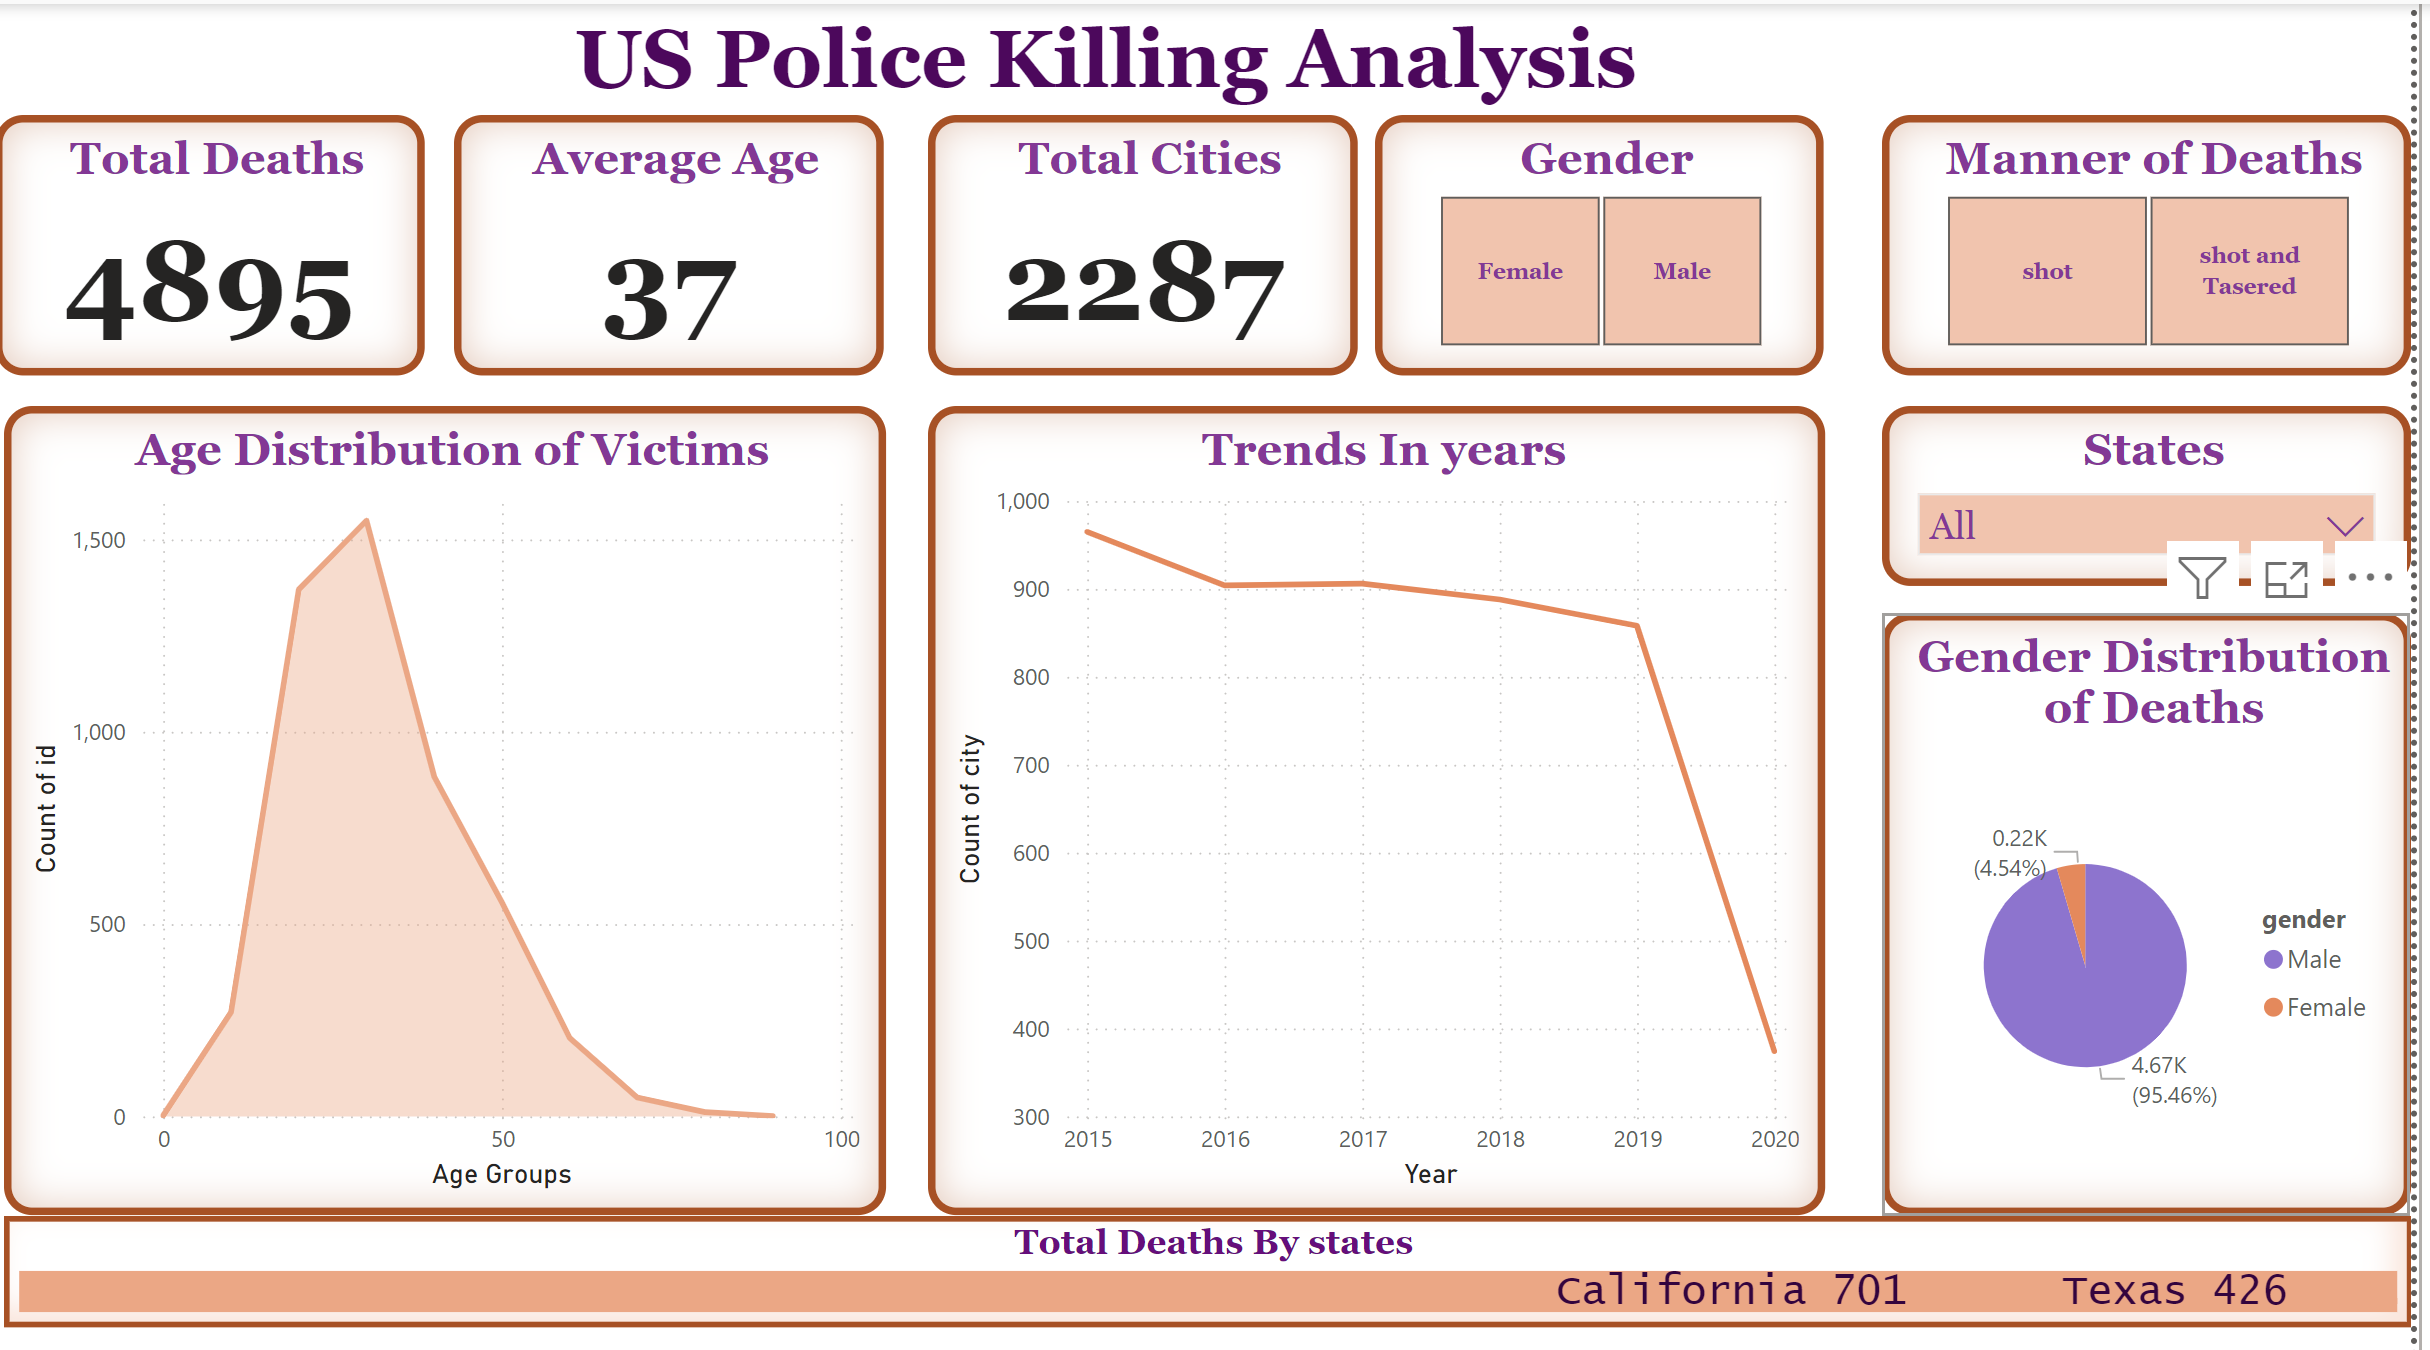

The dashboard page shown, as its layout file describes it:
{"tool":"powerbi","page":{"name":"Home","canvas":[1280,720],"ordinal":0},"visuals":[{"type":"textbox","box":[302.6,0,583.3,59.7],"z":0},{"type":"card","title":"Total Deaths","fields":{"Values":["Shooting Measures.Total Deaths"]},"box":[0,58.9,227.6,138.2],"z":1000},{"type":"card","title":"Average Age","fields":{"Values":["Shooting Measures.Average Age"]},"box":[243.8,58.9,227.6,138.2],"z":2000},{"type":"card","title":"Total Cities","fields":{"Values":["Shooting Measures.Total Cities"]},"box":[493.7,58.9,227.6,138.2],"z":3000},{"type":"slicer","title":"Gender","fields":{"Values":["Table1.gender"]},"box":[731.4,58.9,237.7,138.2],"z":4000},{"type":"slicer","title":"Manner of Deaths","fields":{"Values":["Table1.manner_of_death"]},"box":[999.6,58.9,280.4,138.2],"z":5000},{"type":"slicer","title":"States","fields":{"Values":["States.State Name"]},"box":[999.6,213.3,280.4,95.5],"z":6000},{"type":"areaChart","title":"Age Distribution of Victims","fields":{"Category":["Table1.age (bins)"],"Y":["CountNonNull(Table1.id)"]},"box":[4.1,213.3,467.3,428.7],"z":7000},{"type":"lineChart","title":"Trends In years","fields":{"Category":["Table1.date.Variation.Date Hierarchy.Year","Table1.date.Variation.Date Hierarchy.Quarter","Table1.date.Variation.Date Hierarchy.Month","Table1.date.Variation.Date Hierarchy.Day"],"Y":["CountNonNull(Table1.city)"]},"box":[493.7,213.3,475.4,428.7],"z":8000},{"type":"ScrollingTextVisual1448795304508","title":"Total Deaths By states","fields":{"Measure Absolute":["CountNonNull(Table1.id)"],"Category":["States.State Name"]},"box":[4.1,642,1275.9,58.9],"z":9000},{"type":"pieChart","title":"Gender Distribution of Deaths","fields":{"Y":["CountNonNull(Shooting Table.id)"],"Category":["Shooting Table.gender"]},"box":[999.6,323,280.4,319],"z":10000}]}

Visuals, with their boxes in screenshot pixels (x1, y1, x2, y2), scaled from the page's 1280x720 canvas onto the 2430x1350 screenshot:
textbox: [left=574, top=0, right=1682, bottom=112]
"Total Deaths" card: [left=0, top=110, right=432, bottom=370]
"Average Age" card: [left=463, top=110, right=895, bottom=370]
"Total Cities" card: [left=937, top=110, right=1369, bottom=370]
"Gender" slicer: [left=1389, top=110, right=1840, bottom=370]
"Manner of Deaths" slicer: [left=1898, top=110, right=2429, bottom=370]
"States" slicer: [left=1898, top=400, right=2429, bottom=579]
"Age Distribution of Victims" areaChart: [left=8, top=400, right=895, bottom=1204]
"Trends In years" lineChart: [left=937, top=400, right=1840, bottom=1204]
"Total Deaths By states" ScrollingTextVisual1448795304508: [left=8, top=1204, right=2429, bottom=1314]
"Gender Distribution of Deaths" pieChart: [left=1898, top=606, right=2429, bottom=1204]
